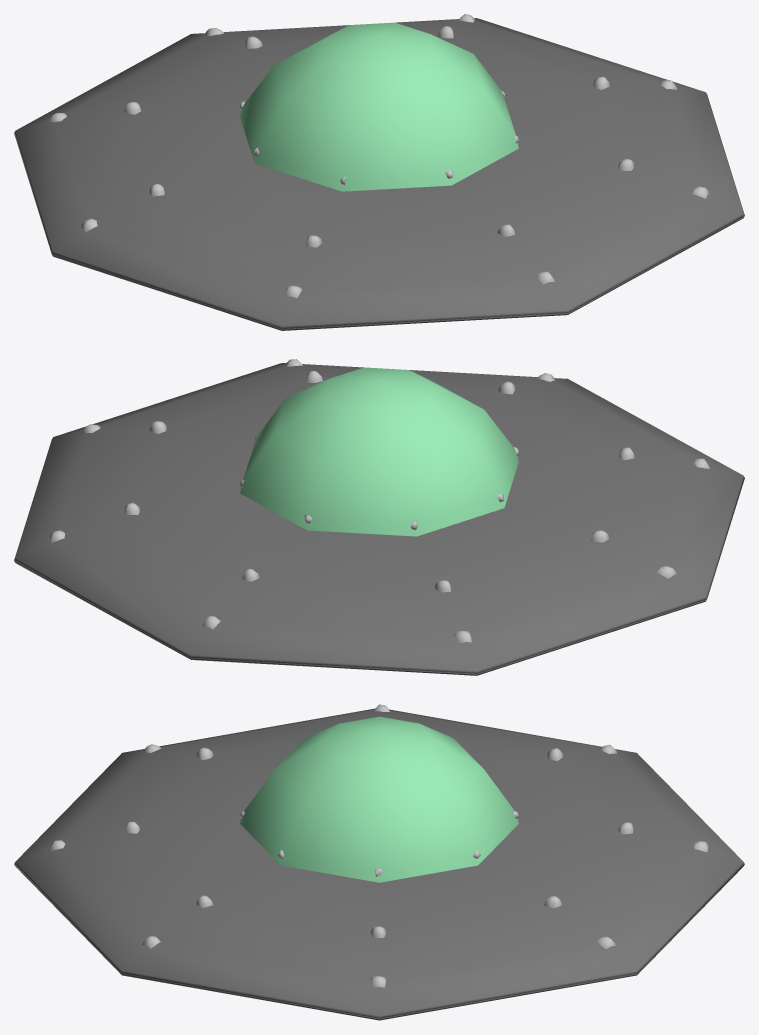
File: MODEL_Saucer.fbx
3 views of the same model, one above another, from view 1: azimuth 30°, elevation 25°; view 2: azimuth 150°, elevation 25°; view 3: azimuth 270°, elevation 25° (orthographic). The views are drawn at different scales.
Parts seen in each view (by area): view 1: Dome.001; view 2: Dome.001; view 3: Dome.001.
Boxes of the visible parts, box(x1,y1,x2,y2) form: Dome.001: box(14, 14, 744, 330); Dome.001: box(14, 359, 744, 675); Dome.001: box(14, 704, 744, 1020).
Bounding box in the file's own units: 554 × 170 × 554.
